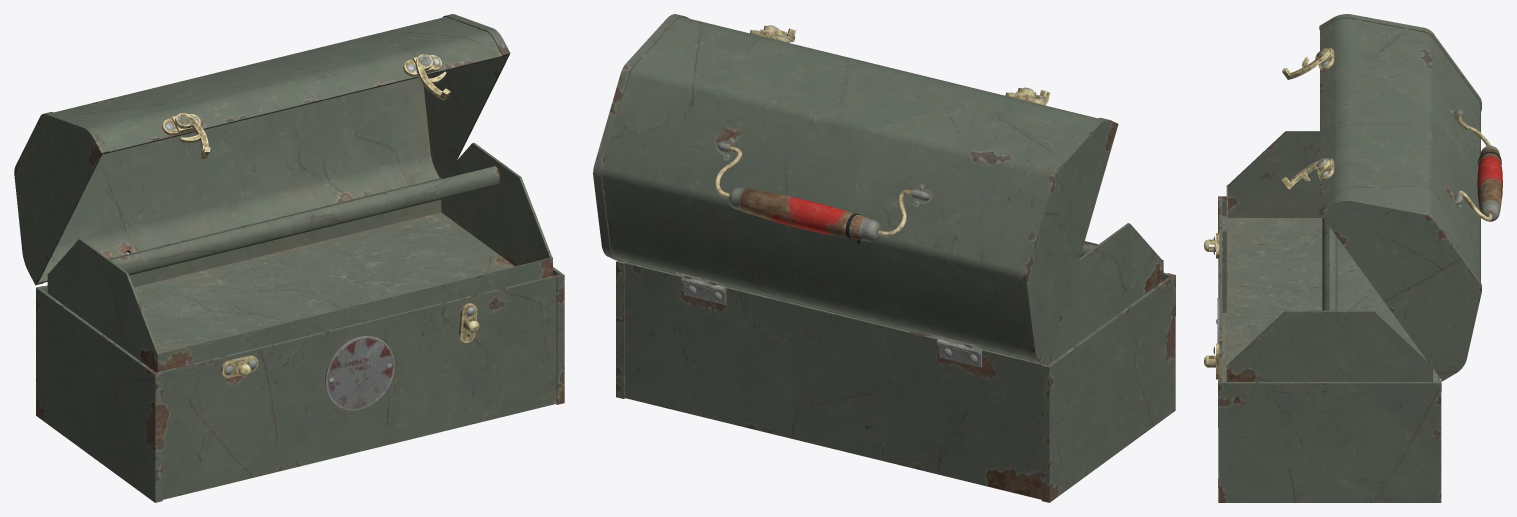
Rendered from toolbox.glb.
3 renders of one model, left to right at view 1: azimuth 30°, elevation 25°; view 2: azimuth 150°, elevation 25°; view 3: azimuth 270°, elevation 25°, orthographic. The views are drawn at different scales.
Parts seen in each view (by area): view 1: metal_toolbox_lid, metal_toolbox, metal_toolbox_tray, metal_toolbox_handle_latch_r, metal_toolbox_handle_latch_l; view 2: metal_toolbox_lid, metal_toolbox, metal_toolbox_tray, metal_toolbox_handle; view 3: metal_toolbox_lid, metal_toolbox_tray, metal_toolbox, metal_toolbox_handle, metal_toolbox_handle_latch_l, metal_toolbox_handle_latch_r.
Boxes of the visible parts, x1,y1,x2,y2 form: metal_toolbox_lid: (14, 14, 510, 285); metal_toolbox: (36, 267, 564, 502); metal_toolbox_tray: (47, 142, 552, 372); metal_toolbox_handle_latch_r: (415, 54, 450, 100); metal_toolbox_handle_latch_l: (175, 113, 210, 158); metal_toolbox_lid: (593, 14, 1118, 365); metal_toolbox: (616, 260, 1175, 502); metal_toolbox_tray: (628, 223, 1163, 363); metal_toolbox_handle: (715, 146, 912, 244); metal_toolbox_lid: (1317, 14, 1481, 381); metal_toolbox_tray: (1226, 131, 1432, 381); metal_toolbox: (1204, 196, 1441, 502); metal_toolbox_handle: (1457, 114, 1502, 221); metal_toolbox_handle_latch_l: (1282, 48, 1330, 79); metal_toolbox_handle_latch_r: (1282, 158, 1330, 189).
Size of the model in its own units: 0.4 by 0.3047 by 0.2705.
1 material, 1 textured.
